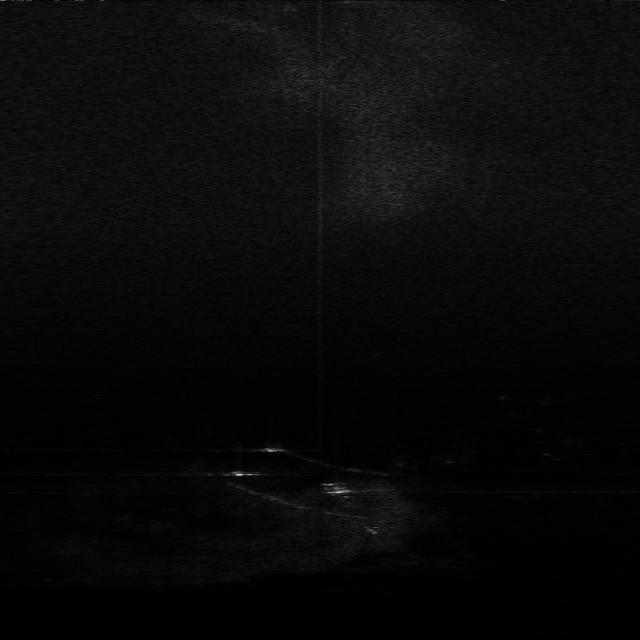rov: (324, 480, 356, 497)
